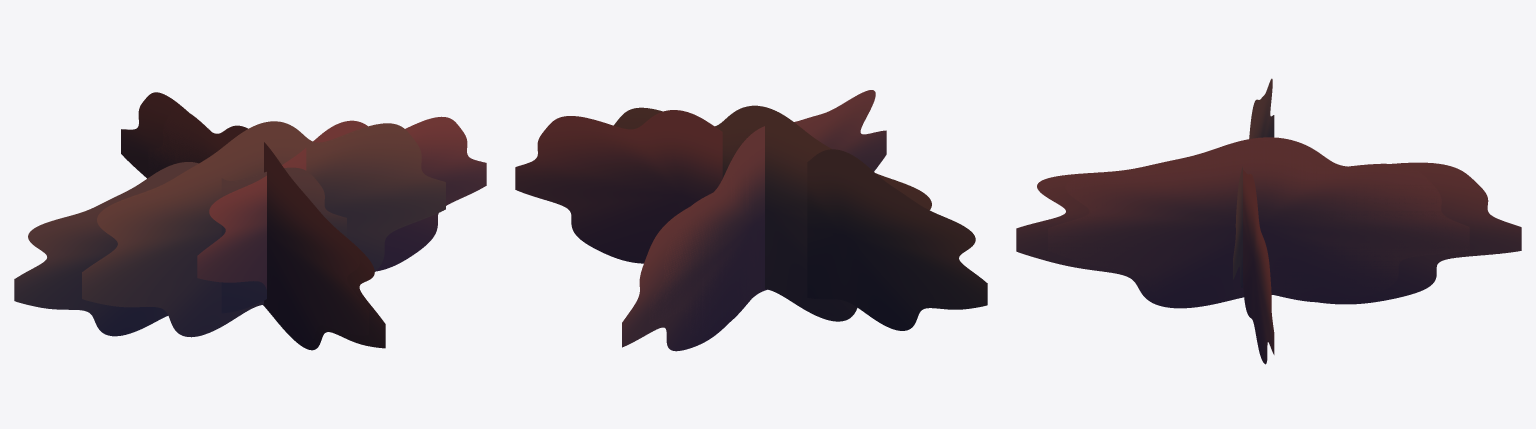
The model's file is clover_bb.glb.
3 views of the same model, side by side, from view 1: azimuth 30°, elevation 25°; view 2: azimuth 150°, elevation 25°; view 3: azimuth 270°, elevation 25° (orthographic). The views are drawn at different scales.
Parts seen in each view (by area): view 1: clover_bb; view 2: clover_bb; view 3: clover_bb.
Part boxes in pixels (x1,y1,x2,y2): clover_bb: (14, 92, 486, 350); clover_bb: (515, 90, 987, 351); clover_bb: (1016, 78, 1521, 364).
Bounding box in the file's own units: 2.05 × 0.95 × 1.99.
Materials: 1 (1 with a texture image).
